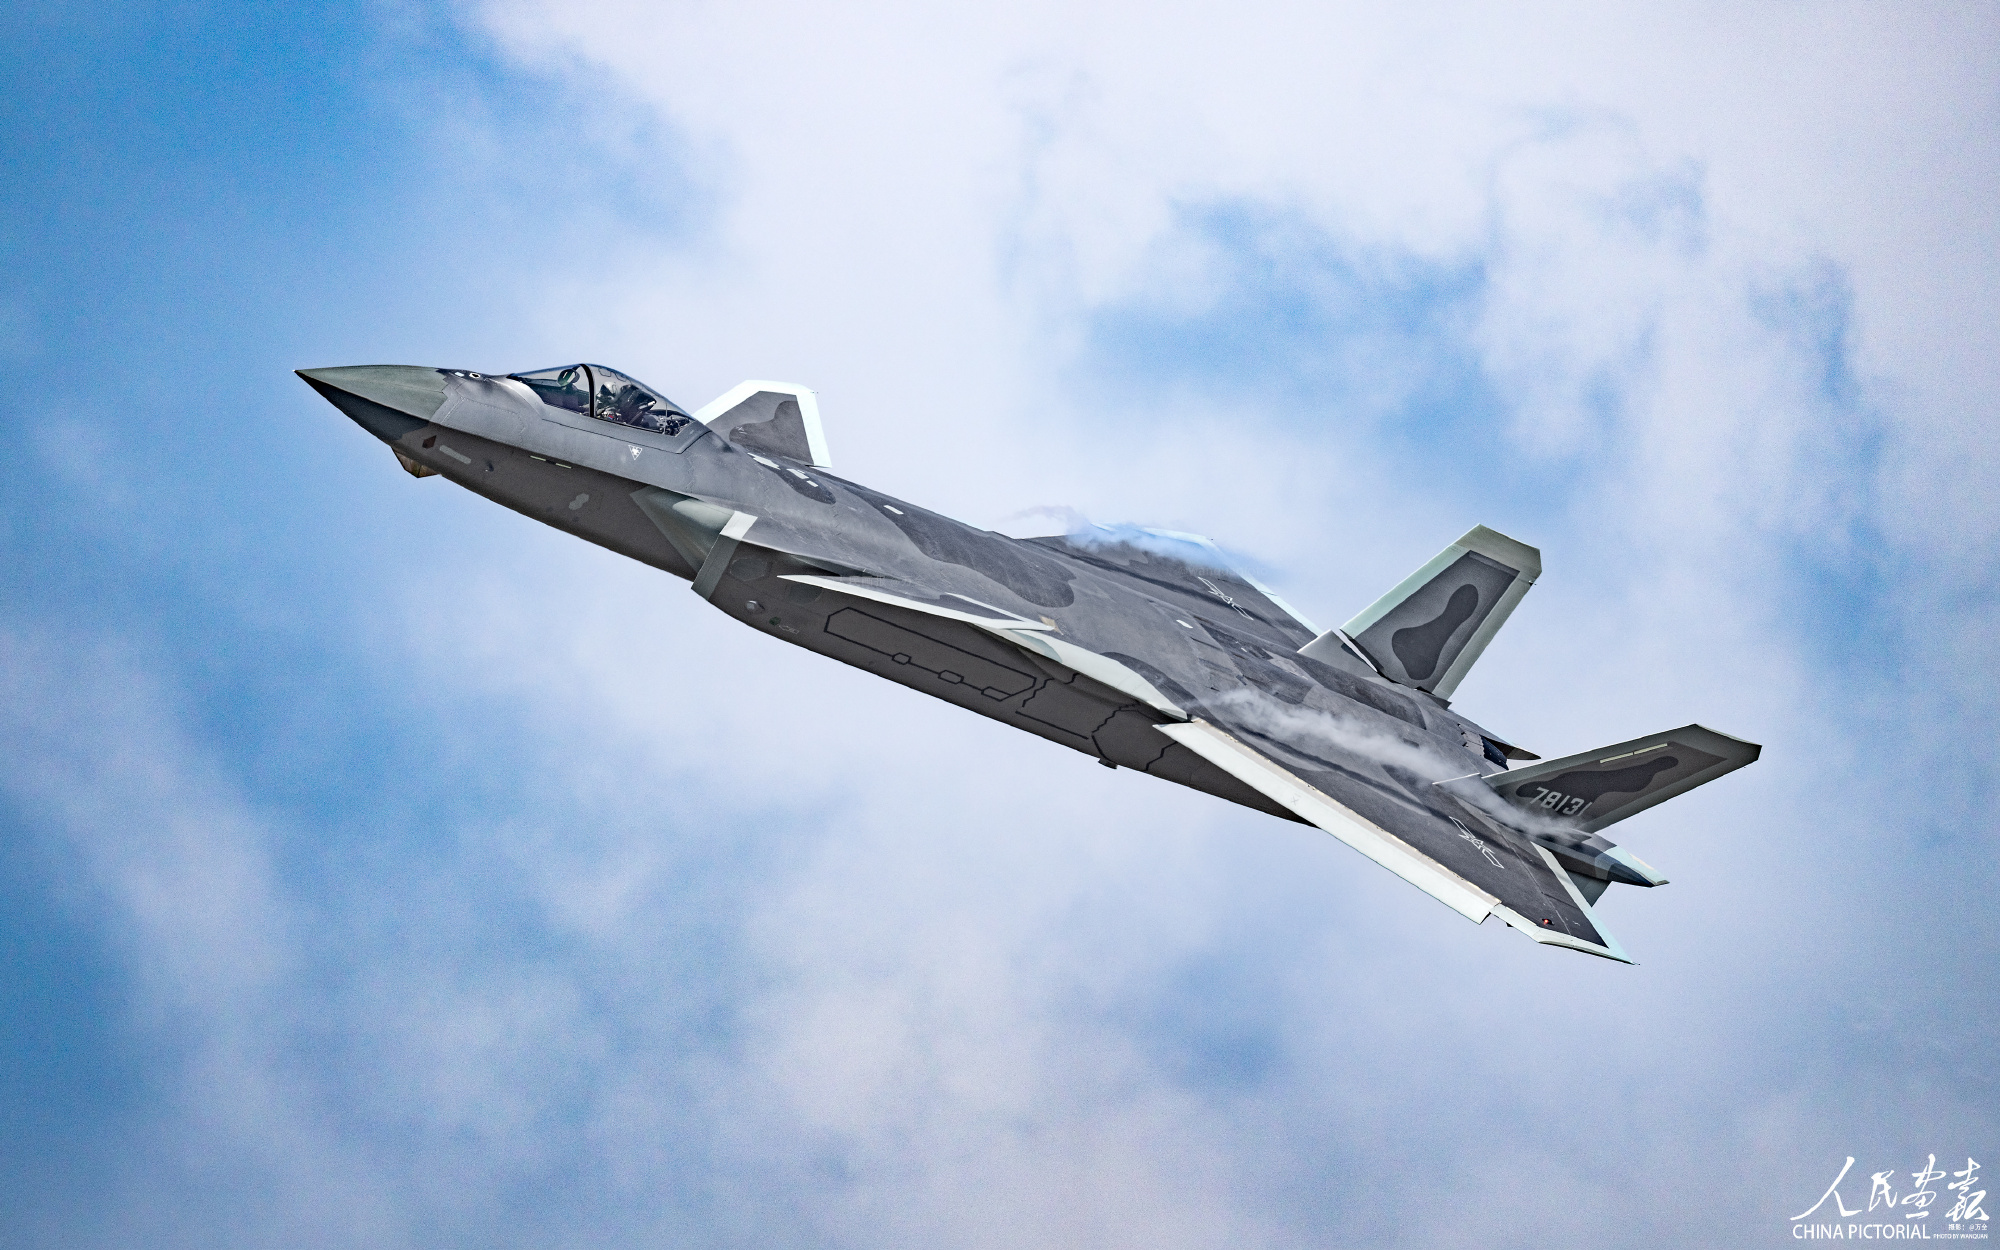J20: (291, 363, 1762, 966)
